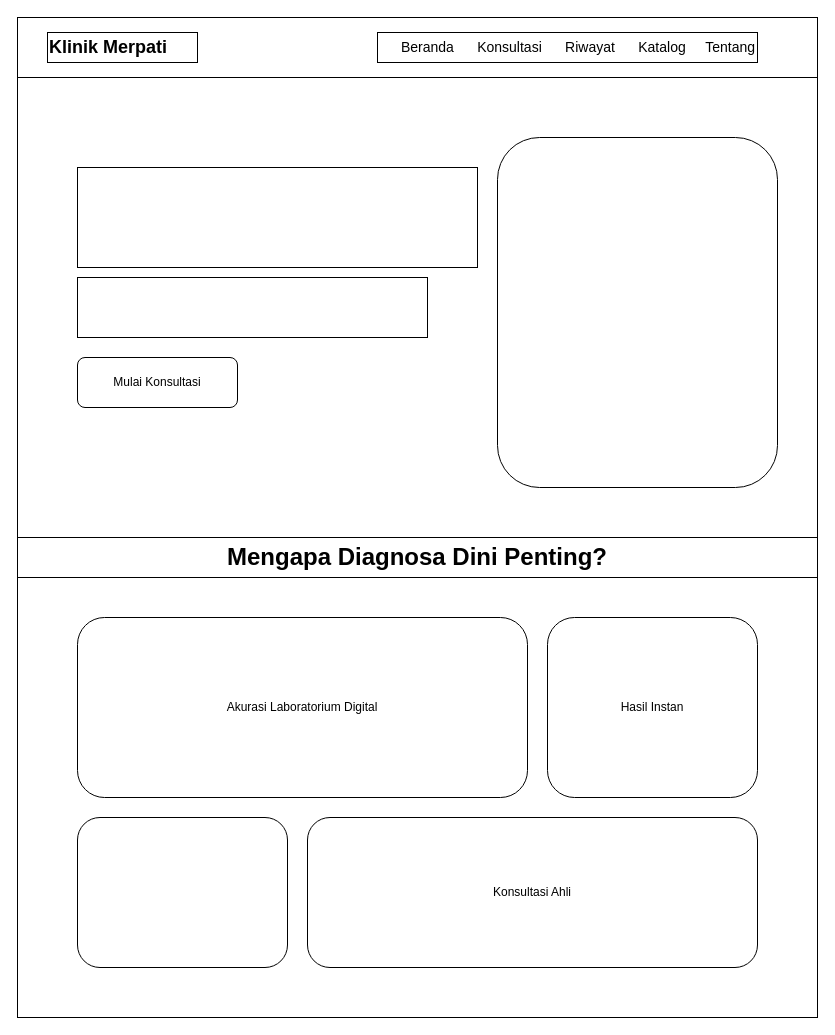
Image size: 835x1035. Some labels were removed from this diagram. Here are the shapes that lost their labels. From the top down, the centre of each, then its label:
[277,217]: Perawatan Presisi untuk Teman Avian Anda.
[252,307]: Menggabungkan riset klinis tingkat tinggi dengan pendekatan yang ramah.
[637,312]: Pigeon Image
[182,892]: Aman & Terpercaya
